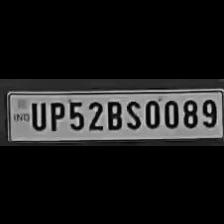0: (142, 96, 160, 128), (161, 96, 179, 128)
2: (85, 97, 103, 130)
5: (65, 97, 84, 130)
8: (180, 96, 198, 128)
9: (198, 95, 218, 127)
B: (104, 97, 122, 129)
P: (46, 98, 64, 130)
S: (123, 97, 141, 129)
U: (28, 98, 46, 130)
